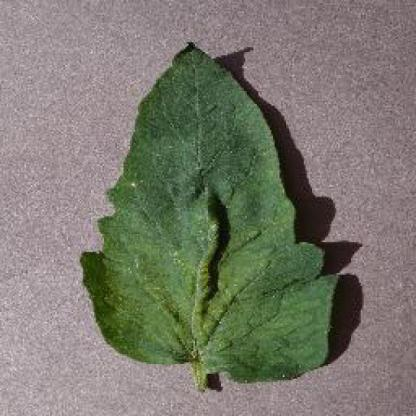Tomato_Spider_Mites: (81, 41, 337, 381)
